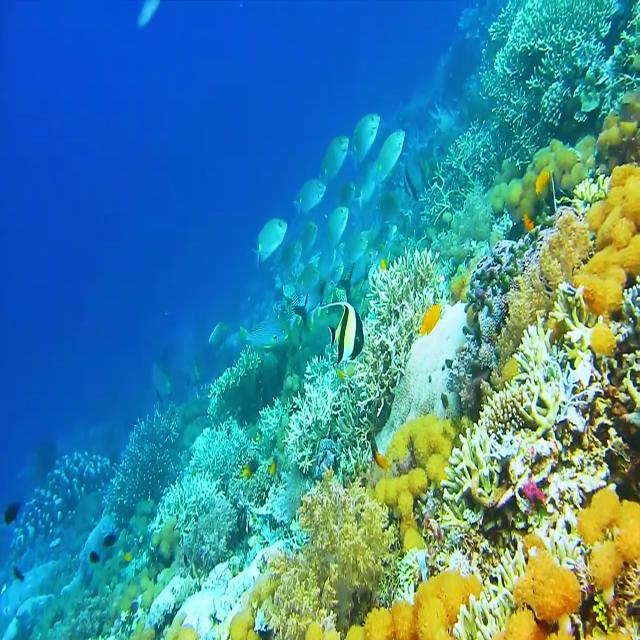fish: (322, 300, 366, 370), (348, 110, 382, 172), (256, 214, 290, 269), (292, 176, 328, 222), (318, 135, 348, 188)
